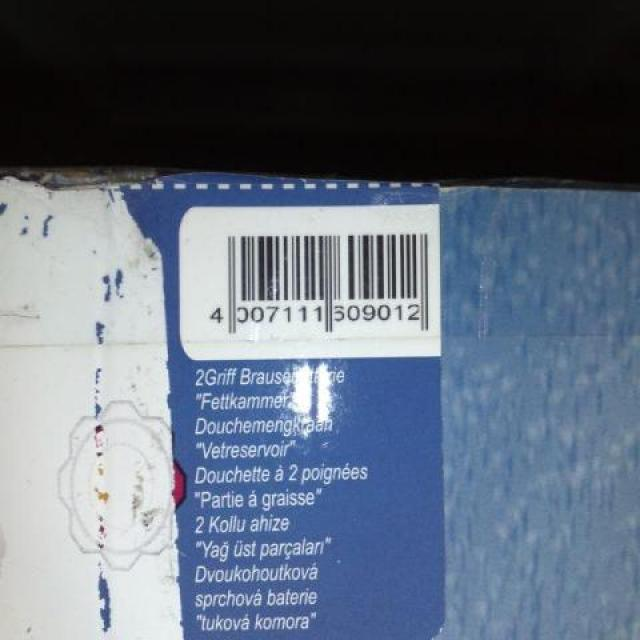Barcode: (199, 224, 437, 339)
